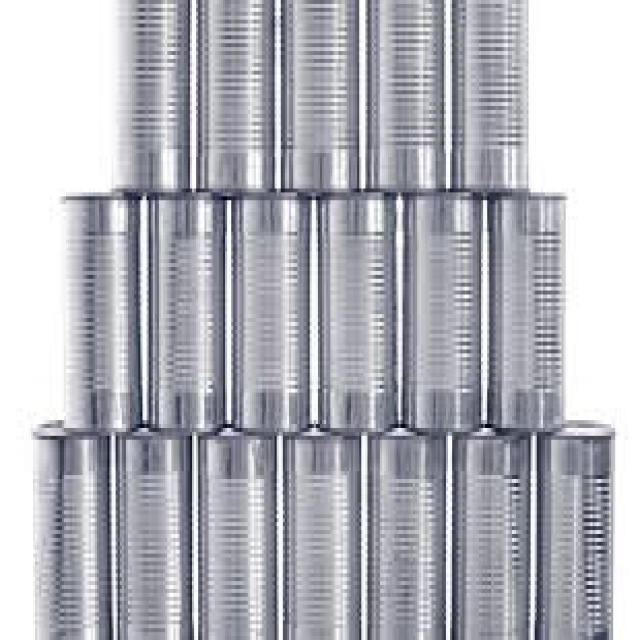recyclable: (59, 187, 142, 433), (318, 189, 400, 438), (144, 187, 224, 434), (232, 187, 312, 433), (402, 191, 483, 433), (488, 190, 566, 439), (196, 420, 277, 640), (537, 418, 617, 640), (32, 418, 112, 640), (283, 418, 362, 640), (451, 416, 528, 640), (114, 420, 192, 640), (369, 424, 447, 640), (196, 0, 276, 194), (109, 0, 189, 192), (280, 0, 359, 192), (366, 0, 444, 194), (454, 0, 530, 197)
